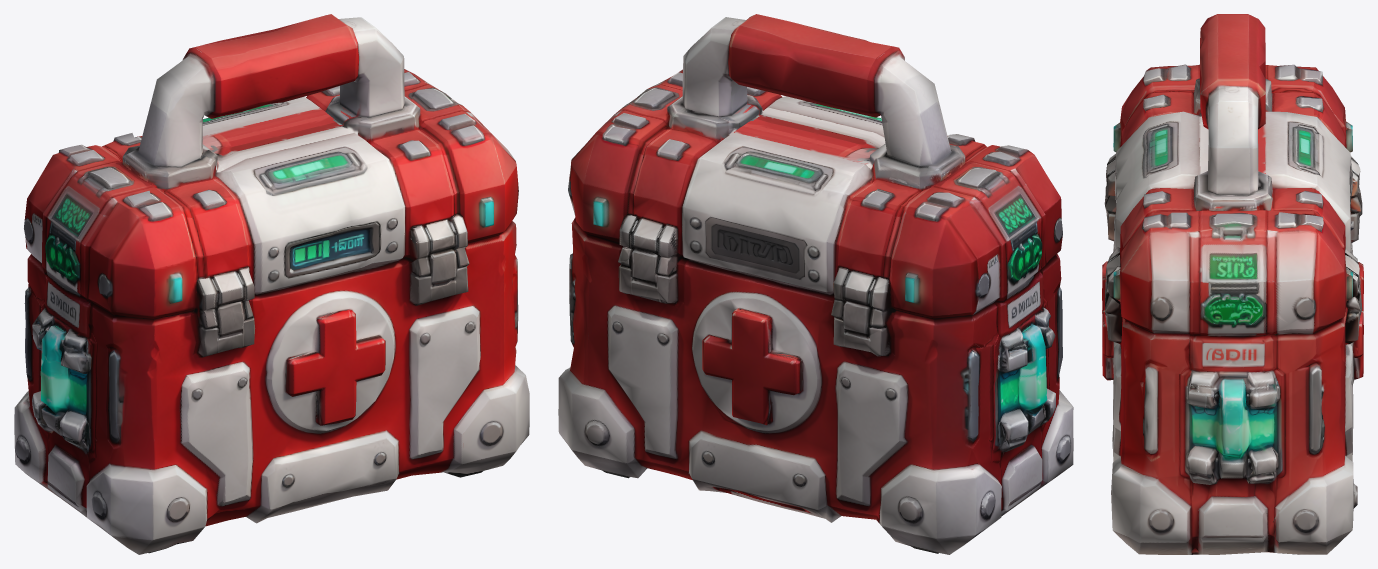
File: medkit.glb
3 views of the same model, side by side, from view 1: azimuth 30°, elevation 25°; view 2: azimuth 150°, elevation 25°; view 3: azimuth 270°, elevation 25° (orthographic). The views are drawn at different scales.
Parts seen in each view (by area): view 1: texture_mapping; view 2: texture_mapping; view 3: texture_mapping.
Part boxes in pixels (x1,y1,x2,y2): texture_mapping: (14, 14, 529, 554); texture_mapping: (558, 14, 1073, 554); texture_mapping: (1102, 14, 1363, 554).
Size of the model in its own units: 0.9856 by 0.9202 by 0.5088.
Materials: 1 (1 with a texture image).
